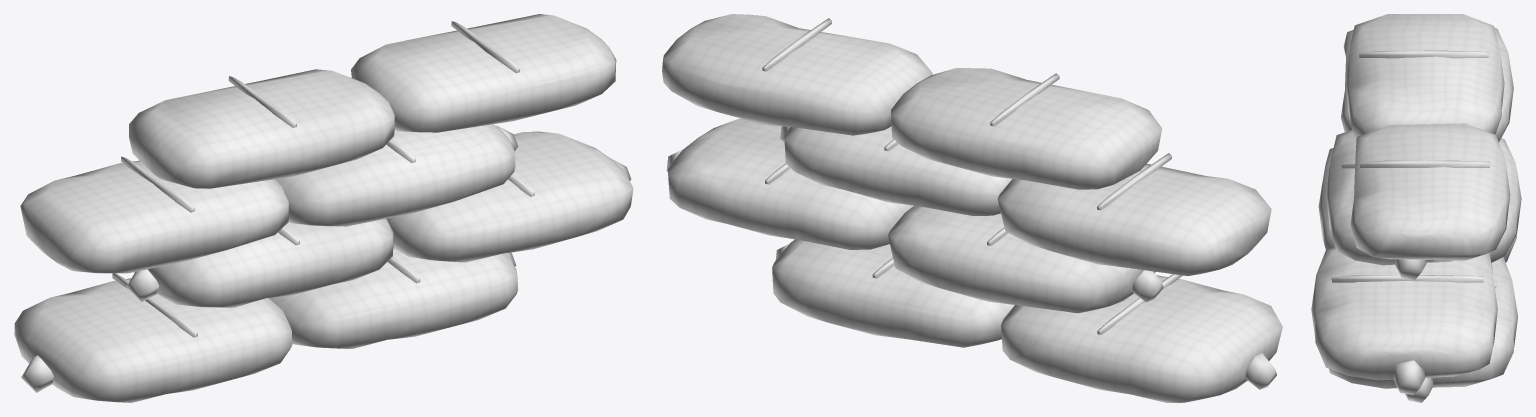
Rendered from sandbags_3.obj.
The picture shows the model from 3 angles, left to right: view 1: azimuth 30°, elevation 25°; view 2: azimuth 150°, elevation 25°; view 3: azimuth 270°, elevation 25°; orthographic projection.
Parts seen in each view (by area): view 1: sandbags_3_component_01_stage_1, sandbags_3_component_19_stage_1, sandbags_3_component_22_stage_1, sandbags_3_component_13_stage_1, sandbags_3_component_10_stage_1, sandbags_3_component_04_stage_1, sandbags_3_component_16_stage_1, sandbags_3_component_07_stage_1, sandbags_3_component_02_stage_1, sandbags_3_component_08_stage_1, sandbags_3_component_15_stage_1, sandbags_3_component_24_stage_1 (+2 smaller); view 2: sandbags_3_component_19_stage_1, sandbags_3_component_01_stage_1, sandbags_3_component_22_stage_1, sandbags_3_component_13_stage_1, sandbags_3_component_10_stage_1, sandbags_3_component_07_stage_1, sandbags_3_component_04_stage_1, sandbags_3_component_16_stage_1, sandbags_3_component_02_stage_1, sandbags_3_component_08_stage_1, sandbags_3_component_15_stage_1, sandbags_3_component_24_stage_1 (+2 smaller); view 3: sandbags_3_component_10_stage_1, sandbags_3_component_22_stage_1, sandbags_3_component_19_stage_1, sandbags_3_component_04_stage_1, sandbags_3_component_16_stage_1, sandbags_3_component_13_stage_1, sandbags_3_component_07_stage_1, sandbags_3_component_12_stage_1, sandbags_3_component_24_stage_1, sandbags_3_component_21_stage_1, sandbags_3_component_01_stage_1, sandbags_3_component_11_stage_1 (+2 smaller).
Boxes of the visible parts, x1,y1,x2,y2 form: sandbags_3_component_01_stage_1: (14,278,292,402); sandbags_3_component_19_stage_1: (129,69,394,188); sandbags_3_component_22_stage_1: (351,14,616,132); sandbags_3_component_13_stage_1: (20,160,288,273); sandbags_3_component_10_stage_1: (386,131,633,262); sandbags_3_component_04_stage_1: (268,248,518,348); sandbags_3_component_16_stage_1: (275,124,515,226); sandbags_3_component_07_stage_1: (134,218,393,307); sandbags_3_component_02_stage_1: (21,355,53,392); sandbags_3_component_08_stage_1: (126,269,159,302); sandbags_3_component_15_stage_1: (121,156,194,212); sandbags_3_component_24_stage_1: (451,21,519,72); sandbags_3_component_19_stage_1: (891,68,1162,189); sandbags_3_component_01_stage_1: (1001,275,1282,402); sandbags_3_component_22_stage_1: (662,14,932,135); sandbags_3_component_13_stage_1: (997,163,1271,275); sandbags_3_component_10_stage_1: (668,118,913,249); sandbags_3_component_07_stage_1: (888,205,1155,313); sandbags_3_component_04_stage_1: (772,239,1014,347); sandbags_3_component_16_stage_1: (784,126,1011,215); sandbags_3_component_02_stage_1: (1245,353,1276,389); sandbags_3_component_08_stage_1: (1132,270,1163,302); sandbags_3_component_15_stage_1: (1097,153,1171,210); sandbags_3_component_24_stage_1: (762,18,831,71); sandbags_3_component_10_stage_1: (1311,247,1497,380); sandbags_3_component_22_stage_1: (1350,123,1510,260); sandbags_3_component_19_stage_1: (1345,14,1504,139); sandbags_3_component_04_stage_1: (1329,257,1517,388); sandbags_3_component_16_stage_1: (1326,130,1453,265); sandbags_3_component_13_stage_1: (1341,27,1513,142); sandbags_3_component_07_stage_1: (1489,138,1521,262); sandbags_3_component_12_stage_1: (1331,275,1483,282); sandbags_3_component_24_stage_1: (1359,160,1490,167); sandbags_3_component_21_stage_1: (1359,50,1488,58); sandbags_3_component_01_stage_1: (1318,148,1516,262); sandbags_3_component_11_stage_1: (1393,360,1424,395).
Bounding box in the file's own units: 1.36 × 0.5216 × 0.409.
